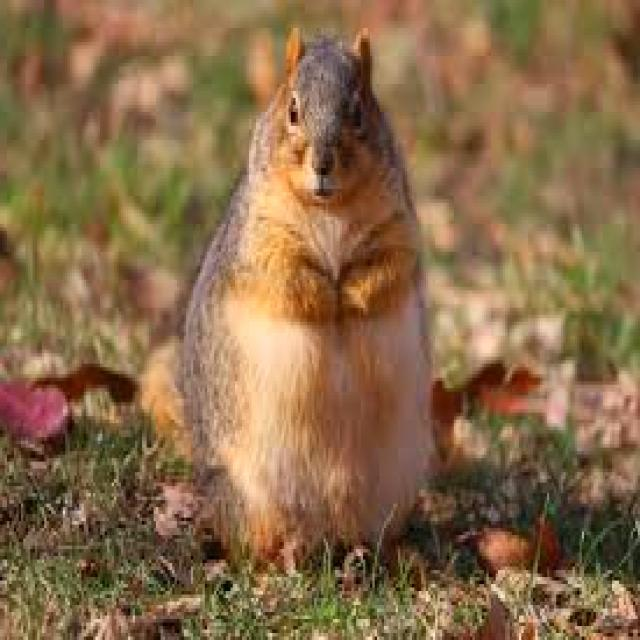squirrel: (142, 28, 540, 556)
